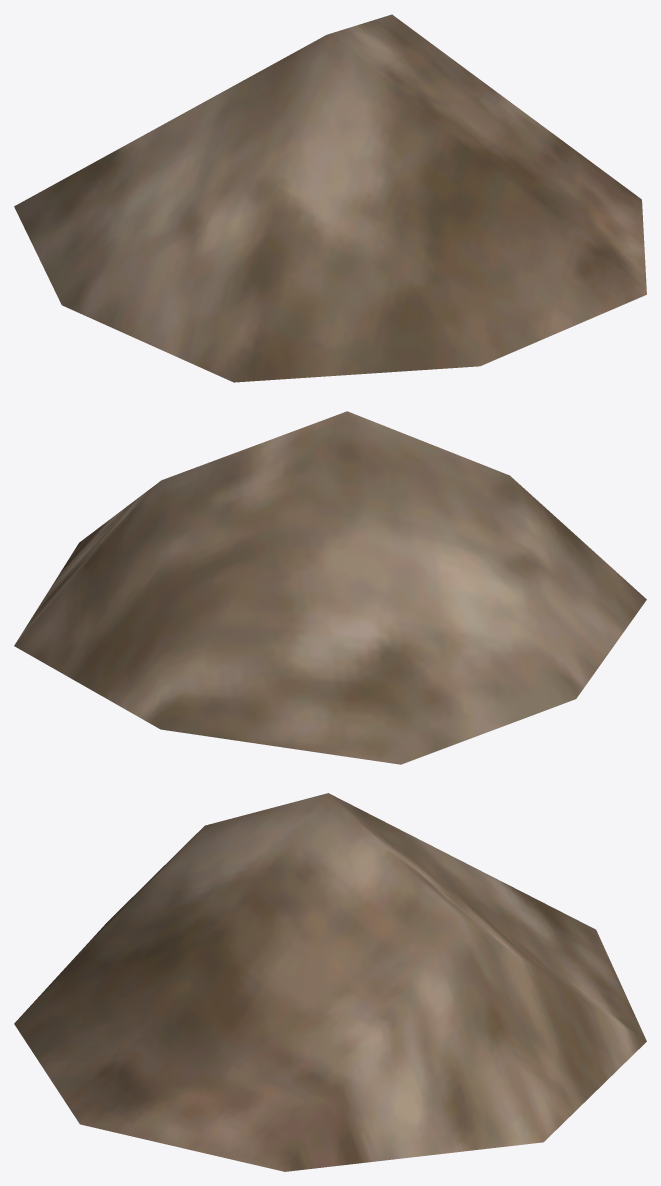
File: OVERHILL_A_01_ROCK60.fbx
The picture shows the model from 3 angles, top to bottom: view 1: azimuth 30°, elevation 25°; view 2: azimuth 150°, elevation 25°; view 3: azimuth 270°, elevation 25°; orthographic projection. The views are drawn at different scales.
Parts seen in each view (by area): view 1: OVERHILL_A_01_ROCK60; view 2: OVERHILL_A_01_ROCK60; view 3: OVERHILL_A_01_ROCK60.
Boxes of the visible parts, x1,y1,x2,y2 form: OVERHILL_A_01_ROCK60: (14,14,646,382); OVERHILL_A_01_ROCK60: (14,411,646,764); OVERHILL_A_01_ROCK60: (14,793,646,1171).
Size of the model in its own units: 1904 by 741 by 1849.
Materials: 1 (1 with a texture image).
